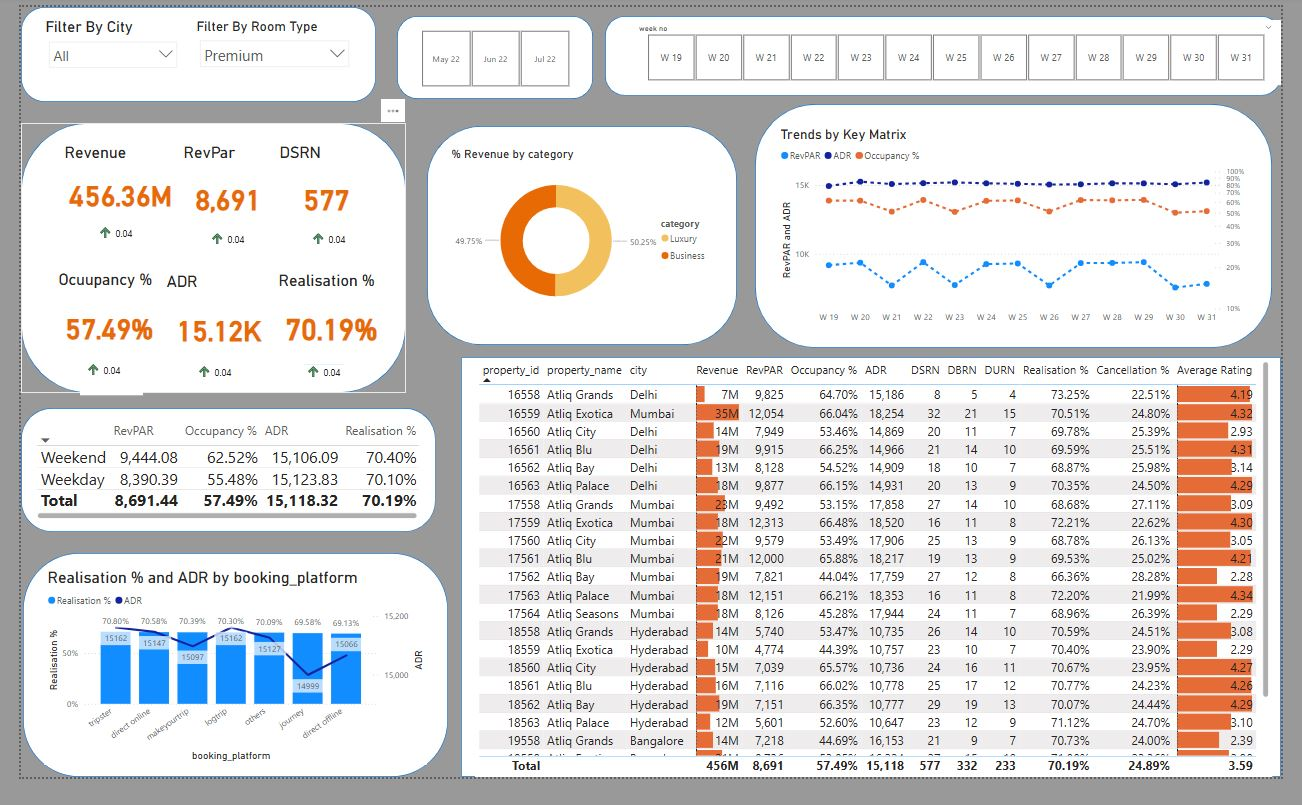

The page's visual inventory and layout, read from the dashboard file:
{"tool":"powerbi","page":{"name":"Page 1","canvas":[1800,1100],"ordinal":0},"visuals":[{"type":"tableEx","fields":{"Values":["key_measures.Revenue WoW change %"]},"box":[85.7,461.4,80,61.4],"z":0},{"type":"tableEx","fields":{"Values":["key_measures.Revenue WoW change %"]},"box":[94.3,280,114.3,64.3],"z":1000},{"type":"shape","box":[628.6,500,1171.4,600],"z":2000},{"type":"shape","box":[1048.6,138.6,738.6,348.6],"z":3000},{"type":"shape","box":[580,170,442.9,312.9],"z":4000},{"type":"shape","box":[537.1,12.9,280,118.6],"z":5000},{"type":"shape","box":[834.3,12.9,965.7,114.3],"z":6000},{"type":"shape","box":[2.9,780,607.1,320],"z":7000},{"type":"shape","box":[0,572.9,592.9,177.1],"z":8000},{"type":"tableEx","fields":{"Values":["key_measures.Revenue WoW change %"]},"box":[91.4,461.4,78.6,75.7],"z":9000},{"type":"tableEx","fields":{"Values":["key_measures.Revenue WoW change %"]},"box":[105.7,312.9,90,81.4],"z":10000},{"type":"tableEx","fields":{"Values":["key_measures.Revenue WoW change %"]},"box":[111.4,278.6,80,68.6],"z":11000},{"type":"tableEx","fields":{"Values":["key_measures.Revenue WoW change %"]},"box":[90,461.4,80,78.6],"z":12000},{"type":"shape","box":[0,165.7,550,385.7],"z":13000},{"type":"shape","box":[0,0,507.1,135.7],"z":14000},{"type":"tableEx","fields":{"Values":["key_measures.Revenue WoW change %"]},"box":[242.9,478.6,80,57.1],"z":15000},{"type":"tableEx","fields":{"Values":["key_measures.Revenue WoW change %"]},"box":[344.3,378.6,80,68.6],"z":16000},{"type":"tableEx","fields":{"Values":["key_measures.Revenue WoW change %"]},"box":[264.3,447.1,80,68.6],"z":17000},{"type":"tableEx","fields":{"Values":["key_measures.Revenue WoW change %"]},"box":[398.6,478.6,90,61.4],"z":18000},{"type":"tableEx","fields":{"Values":["dim_hotels.property_id","dim_hotels.property_name","dim_hotels.city","key_measures.Revenue","key_measures.RevPAR","key_measures.Occupancy %","key_measures.ADR","key_measures.DSRN","key_measures.DBRN","key_measures.DURN","key_measures.Realisation %","key_measures.Cancellation %"]},"box":[648.6,501.4,1138.6,598.6],"z":19000},{"type":"slicer","title":"Filter By City","fields":{"Values":["dim_hotels.city"]},"box":[30,15.7,202.9,104.3],"z":20000},{"type":"slicer","title":"Filter By Room Type","fields":{"Values":["dim_rooms.room_class"]},"box":[245.7,15.7,232.9,104.3],"z":21000},{"type":"slicer","fields":{"Values":["dim_date.mmm yy"]},"box":[547.1,27.1,260,92.9],"z":22000},{"type":"slicer","fields":{"Values":["dim_date.week no"]},"box":[870,18.6,930,92.9],"z":23000},{"type":"donutChart","title":"% Revenue by category","fields":{"Category":["dim_hotels.category"],"Y":["key_measures.Occupancy %"]},"box":[610,200,382.9,248.6],"z":24000},{"type":"card","title":"ADR","fields":{"Values":["key_measures.ADR"]},"box":[202.9,378.6,160,134.3],"z":25000},{"type":"card","title":"Realisation %","fields":{"Values":["key_measures.Realisation %"]},"box":[362.9,377.1,161.4,134.3],"z":26000},{"type":"lineChart","title":"Trends by Key Matrix","fields":{"Category":["dim_date.mmm yy.Variation.Date Hierarchy.Month","dim_date.week no"],"Y":["key_measures.RevPAR","key_measures.ADR"],"Y2":["key_measures.Occupancy %"]},"box":[1080,170,677.1,291.4],"z":27000},{"type":"lineStackedColumnComboChart","fields":{"Category":["fact_bookings.booking_platform"],"Y":["key_measures.Realisation %"],"Y2":["key_measures.ADR"]},"box":[32.9,801.4,547.1,281.4],"z":28000},{"type":"tableEx","fields":{"Values":["key_measures.Revenue WoW change %"]},"box":[405.7,288.6,90,58.6],"z":29000},{"type":"tableEx","fields":{"Values":["dim_date.day type","key_measures.RevPAR","key_measures.Occupancy %","key_measures.ADR","key_measures.Realisation %"]},"box":[17.1,587.1,555.7,148.6],"z":30000},{"type":"tableEx","fields":{"Values":["key_measures.Revenue WoW change %"]},"box":[261.4,288.6,90,78.6],"z":31000},{"type":"card","title":"DSRN","fields":{"Values":["key_measures.DSRN"]},"box":[364.3,194.3,142.9,128.6],"z":32000},{"type":"card","title":"RevPar ","fields":{"Values":["key_measures.RevPAR"]},"box":[227.1,194.3,137.1,128.6],"z":33000},{"type":"tableEx","fields":{"Values":["key_measures.Revenue WoW change %"]},"box":[101.4,280,90,78.6],"z":34000},{"type":"card","title":"Revenue","fields":{"Values":["key_measures.Revenue"]},"box":[57.1,194.3,170,118.6],"z":35000},{"type":"tableEx","fields":{"Values":["key_measures.Revenue WoW change %"]},"box":[84.3,475.7,90,78.6],"z":36000},{"type":"card","title":"Ocuupancy %","fields":{"Values":["key_measures.Occupancy %"]},"box":[48.6,375.7,154.3,134.3],"z":37000}]}

Visuals, with their boxes in screenshot pixels (x1, y1, x2, y2), scaled from the page's 1800x1100 canvas onto the 1302x805 screenshot:
tableEx - key_measures.Revenue WoW change %: box=[62, 338, 120, 383]
tableEx - key_measures.Revenue WoW change %: box=[68, 205, 151, 252]
shape: box=[455, 366, 1301, 804]
shape: box=[758, 101, 1293, 357]
shape: box=[420, 124, 740, 353]
shape: box=[389, 9, 591, 96]
shape: box=[603, 9, 1301, 93]
shape: box=[2, 571, 441, 804]
shape: box=[0, 419, 429, 549]
tableEx - key_measures.Revenue WoW change %: box=[66, 338, 123, 393]
tableEx - key_measures.Revenue WoW change %: box=[76, 229, 142, 289]
tableEx - key_measures.Revenue WoW change %: box=[81, 204, 138, 254]
tableEx - key_measures.Revenue WoW change %: box=[65, 338, 123, 395]
shape: box=[0, 121, 398, 404]
shape: box=[0, 0, 367, 99]
tableEx - key_measures.Revenue WoW change %: box=[176, 350, 234, 392]
tableEx - key_measures.Revenue WoW change %: box=[249, 277, 307, 327]
tableEx - key_measures.Revenue WoW change %: box=[191, 327, 249, 377]
tableEx - key_measures.Revenue WoW change %: box=[288, 350, 353, 395]
tableEx - dim_hotels.property_id x dim_hotels.property_name: box=[469, 367, 1293, 804]
"Filter By City" slicer: box=[22, 11, 168, 88]
"Filter By Room Type" slicer: box=[178, 11, 346, 88]
slicer - dim_date.mmm yy: box=[396, 20, 584, 88]
slicer - dim_date.week no: box=[629, 14, 1301, 82]
"% Revenue by category" donutChart: box=[441, 146, 718, 328]
"ADR" card: box=[147, 277, 262, 375]
"Realisation %" card: box=[262, 276, 379, 374]
"Trends by Key Matrix" lineChart: box=[781, 124, 1271, 338]
lineStackedColumnComboChart - fact_bookings.booking_platform x key_measures.Realisation %: box=[24, 586, 420, 792]
tableEx - key_measures.Revenue WoW change %: box=[293, 211, 359, 254]
tableEx - dim_date.day type x key_measures.RevPAR: box=[12, 430, 414, 538]
tableEx - key_measures.Revenue WoW change %: box=[189, 211, 254, 269]
"DSRN" card: box=[264, 142, 367, 236]
"RevPar " card: box=[164, 142, 263, 236]
tableEx - key_measures.Revenue WoW change %: box=[73, 205, 138, 262]
"Revenue" card: box=[41, 142, 164, 229]
tableEx - key_measures.Revenue WoW change %: box=[61, 348, 126, 406]
"Ocuupancy %" card: box=[35, 275, 147, 373]
